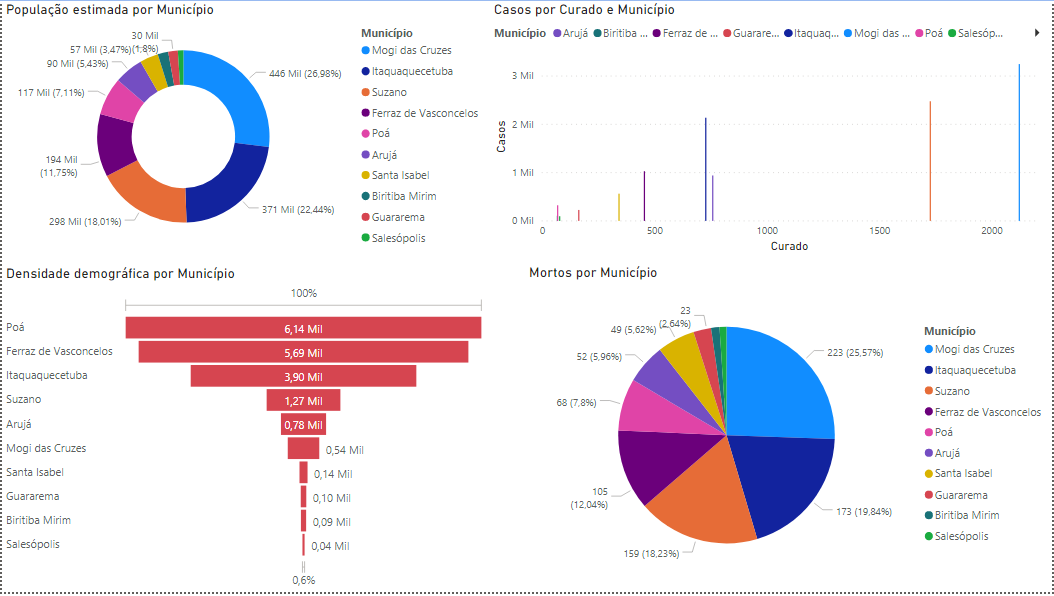

Layout of this report page (visuals, bound fields, positions):
{"tool":"powerbi","page":{"name":"Página 1","canvas":[1280,720],"ordinal":0},"visuals":[{"type":"donutChart","fields":{"Category":["AltoTiete (2).Município"],"Y":["Sum(AltoTiete (2).População estimada)"]},"box":[0,0,594.3,311.2],"z":0},{"type":"funnel","fields":{"Category":["AltoTiete (2).Município"],"Y":["Sum(AltoTiete (2).Densidade demográfica)"]},"box":[0,321.5,594.3,398.2],"z":2000},{"type":"pieChart","fields":{"Category":["AltoTiete (2).Município"],"Y":["Sum(AltoTiete (2).Mortos)"]},"box":[637,321,643,398],"z":2001},{"type":"columnChart","fields":{"Y":["Sum(AltoTiete (2).Casos)"],"Series":["AltoTiete (2).Município"],"Category":["AltoTiete (2).Curado"]},"box":[637,0,643,311],"z":2002}]}

Visuals, with their boxes in screenshot pixels (x1, y1, x2, y2), scaled from the page's 1280x720 canvas onto the 1054x596 screenshot:
donutChart - AltoTiete (2).Município x Sum(AltoTiete (2).População estimada): [x1=0, y1=0, x2=489, y2=258]
funnel - AltoTiete (2).Município x Sum(AltoTiete (2).Densidade demográfica): [x1=0, y1=266, x2=489, y2=595]
pieChart - AltoTiete (2).Município x Sum(AltoTiete (2).Mortos): [x1=525, y1=266, x2=1053, y2=595]
columnChart - Sum(AltoTiete (2).Casos) x AltoTiete (2).Município: [x1=525, y1=0, x2=1053, y2=257]
